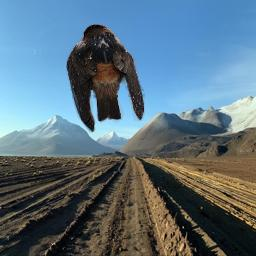Swallow: (66, 24, 145, 133)
